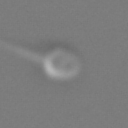normal: (1, 35, 45, 64)
